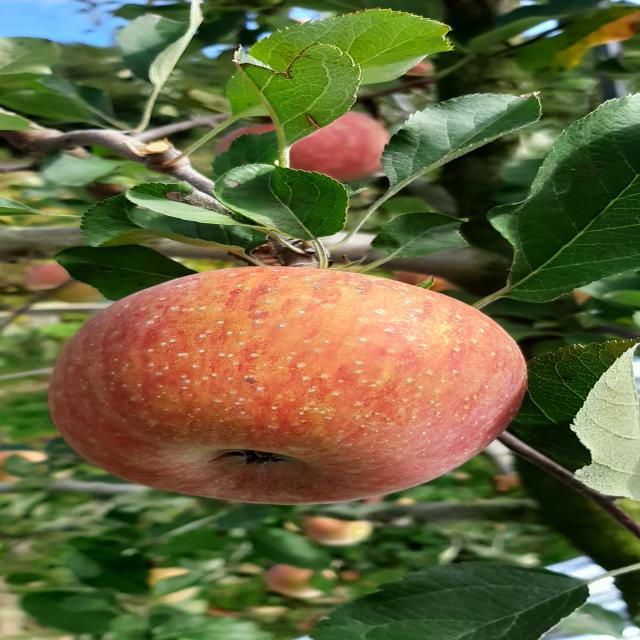fresh: (33, 262, 543, 515)
